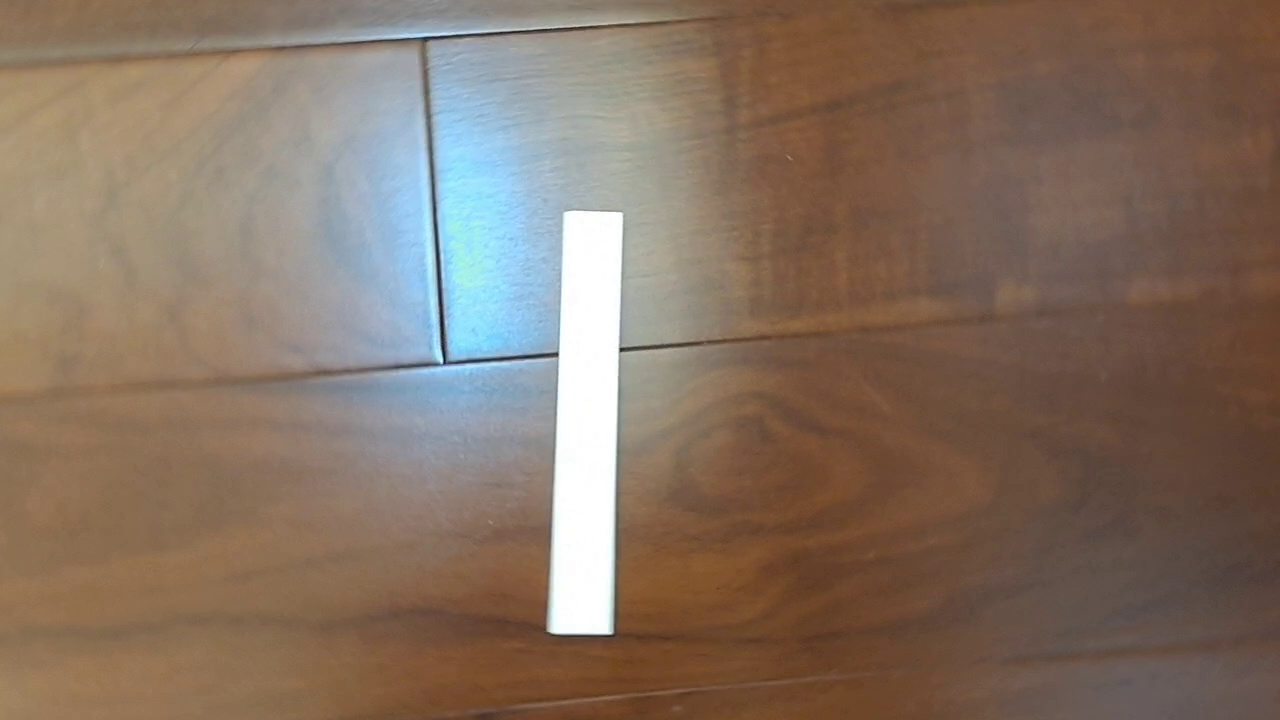ruler: (545, 210, 625, 638)
